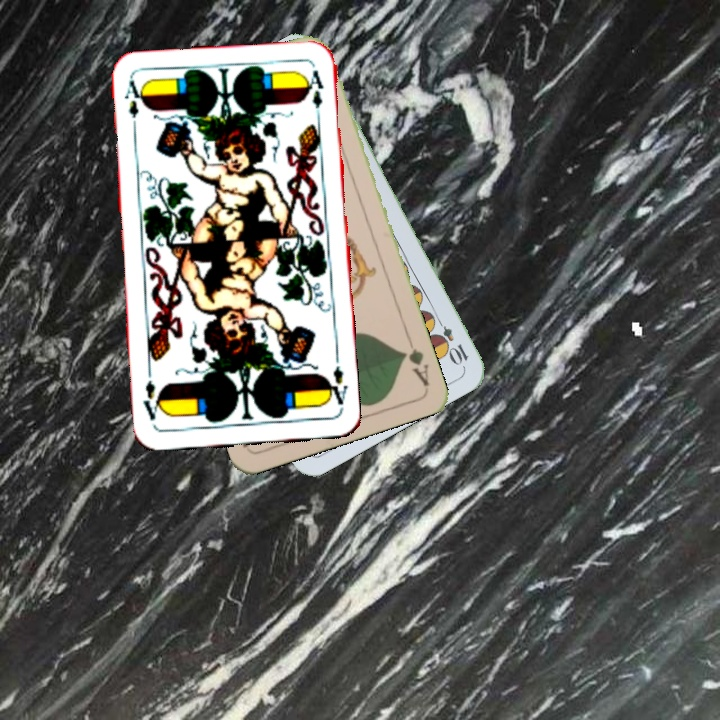E10: (430, 312, 471, 368)
EA: (120, 76, 146, 135), (322, 362, 350, 413)
GA: (398, 332, 432, 389)
